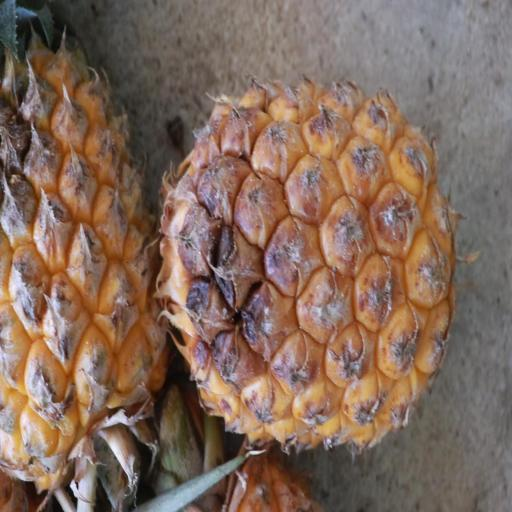Pineapple - v8 v1: (152, 75, 454, 449), (0, 0, 173, 507)
